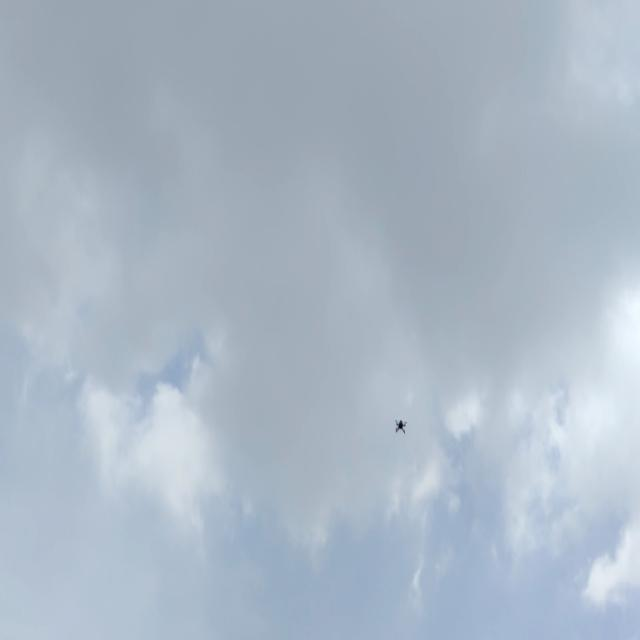drone: (388, 413, 411, 441)
